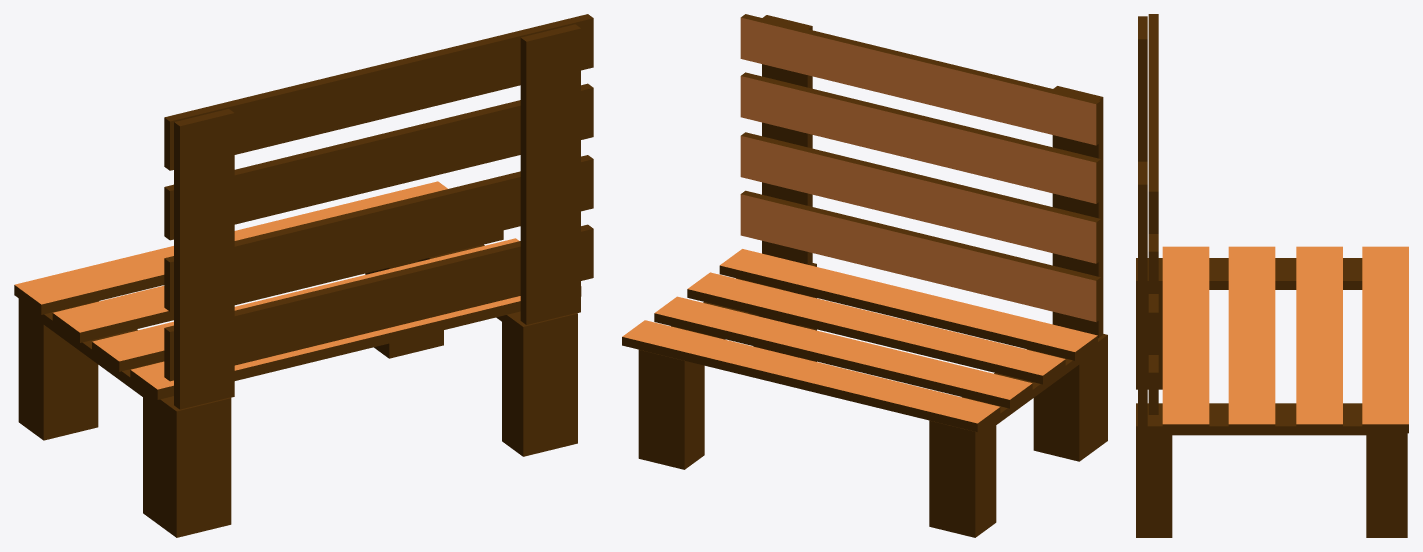
Rendered from bemch.fbx.
3 views of the same model, side by side, from view 1: azimuth 30°, elevation 25°; view 2: azimuth 150°, elevation 25°; view 3: azimuth 270°, elevation 25° (orthographic). The views are drawn at different scales.
Visible parts, largest first — view 1: Plane; view 2: Plane; view 3: Plane.
Part boxes in pixels (bbox=[...]): Plane: bbox=[14, 14, 593, 537]; Plane: bbox=[622, 14, 1107, 537]; Plane: bbox=[1136, 14, 1408, 537].
Size of the model in its own units: 257 by 238 by 165.
